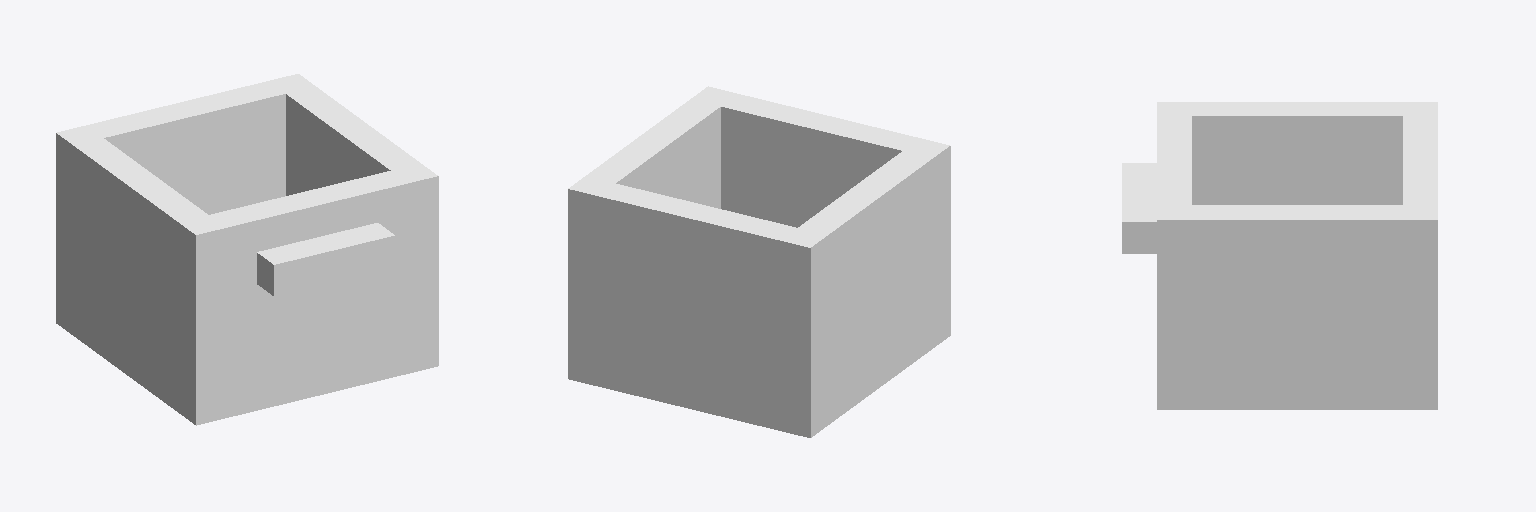
The model's file is DeskUpperLowerDrawer.obj.
The picture shows the model from 3 angles: view 1: azimuth 30°, elevation 25°; view 2: azimuth 150°, elevation 25°; view 3: azimuth 270°, elevation 25°; orthographic projection.
Size of the model in its own units: 8 by 6 by 9.